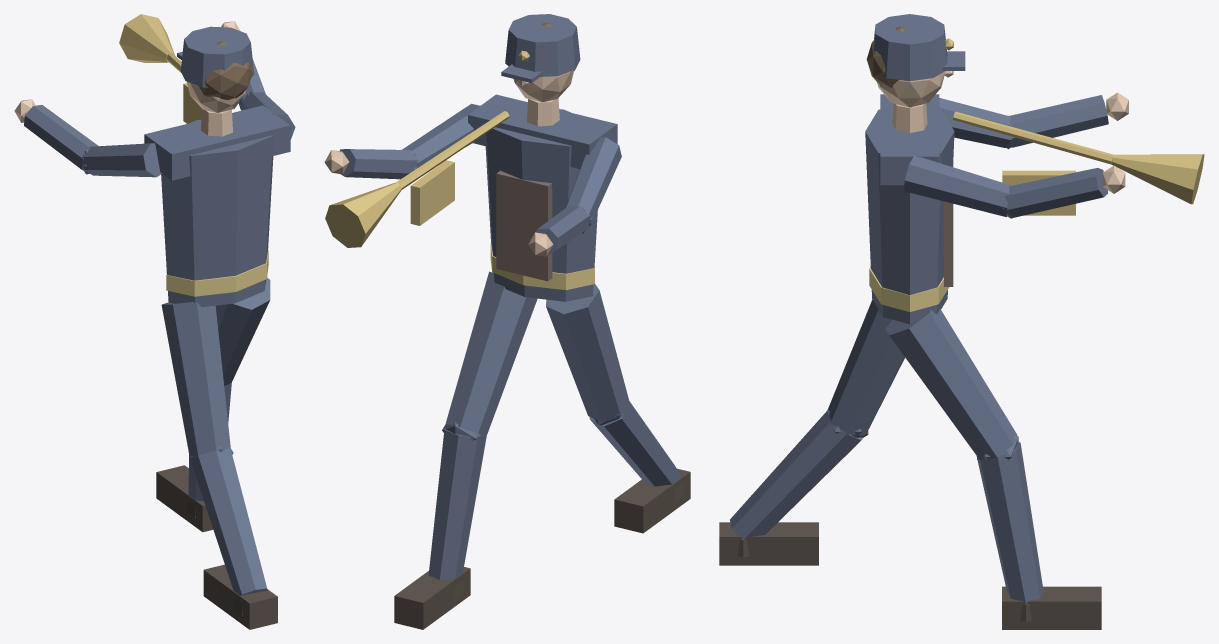
Rendered from bandsman_horn.glb.
3 renders of one model, left to right at view 1: azimuth 30°, elevation 25°; view 2: azimuth 150°, elevation 25°; view 3: azimuth 270°, elevation 25°, orthographic. The views are drawn at different scales.
Parts seen in each view (by area): view 1: wool_navy, boot, brass, skin, button, hair; view 2: wool_navy, brass, boot, waistcoat, skin, button; view 3: wool_navy, boot, brass, skin, button, waistcoat.
Boxes of the visible parts, x1,y1,x2,y2 form: wool_navy: [24, 26, 295, 595]; boot: [156, 465, 277, 629]; brass: [119, 14, 201, 123]; skin: [14, 21, 246, 136]; button: [166, 250, 268, 296]; hair: [198, 41, 253, 99]; wool_navy: [339, 14, 680, 579]; brass: [325, 50, 529, 247]; boot: [394, 468, 690, 629]; waistcoat: [496, 170, 552, 281]; skin: [324, 70, 574, 256]; button: [490, 243, 594, 290]; wool_navy: [730, 14, 1108, 603]; boot: [719, 522, 1101, 629]; brass: [945, 38, 1204, 215]; skin: [877, 71, 1128, 193]; button: [869, 267, 949, 311]; waistcoat: [944, 165, 953, 286].
Bounding box in the file's own units: 0.7405 × 1.71 × 1.31.
